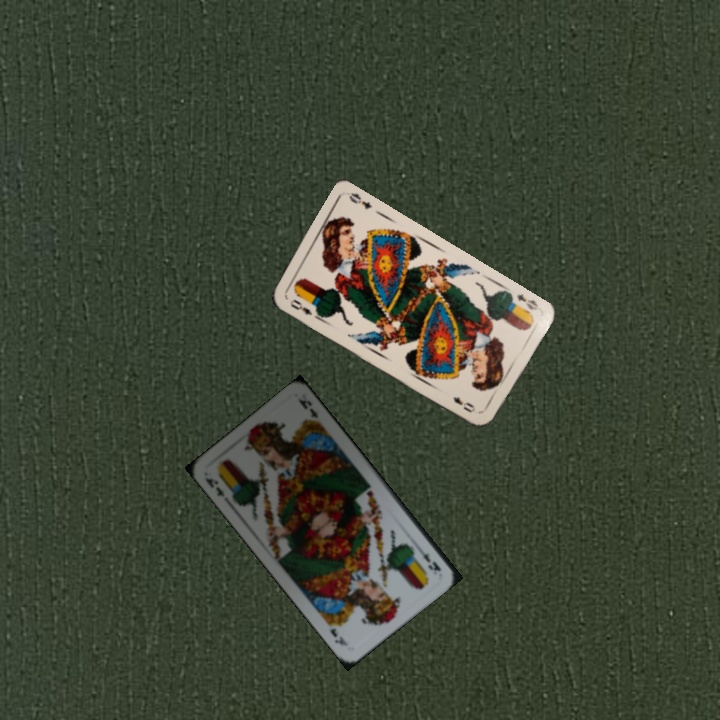EK: (413, 542, 444, 578), (201, 473, 227, 500)
EO: (286, 295, 315, 318), (513, 290, 541, 313)
